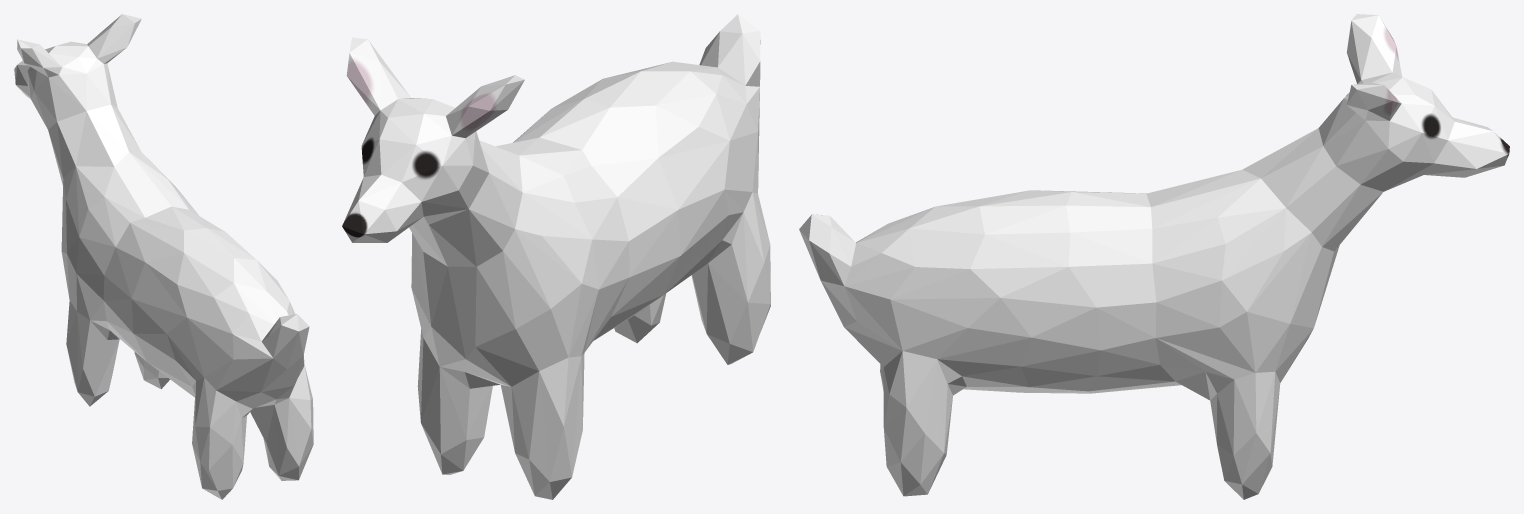
The model's file is animal_deer_doe_blob.obj.
3 renders of one model, left to right at view 1: azimuth 30°, elevation 25°; view 2: azimuth 150°, elevation 25°; view 3: azimuth 270°, elevation 25°, orthographic. The views are drawn at different scales.
Visible parts, largest first — view 1: animal_deer_doe_blob; view 2: animal_deer_doe_blob; view 3: animal_deer_doe_blob.
Boxes of the visible parts, x1,y1,x2,y2 form: animal_deer_doe_blob: (14,14,313,499); animal_deer_doe_blob: (342,14,770,499); animal_deer_doe_blob: (799,14,1509,499).
Size of the model in its own units: 0.3308 by 0.8724 by 1.31.
